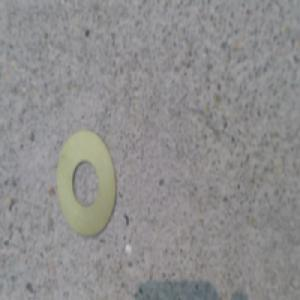Washer: (54, 125, 116, 234)
